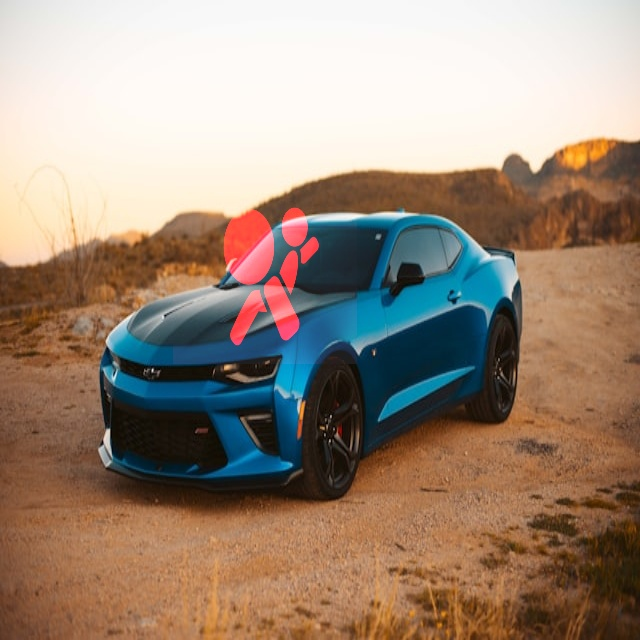symbol: (173, 180, 357, 364)
